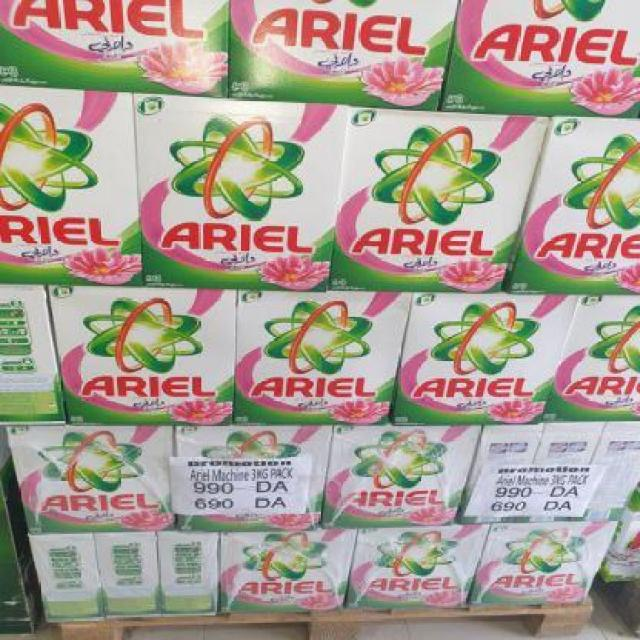Detergent: (134, 95, 334, 294), (338, 102, 522, 296), (0, 66, 135, 292), (57, 288, 237, 420), (240, 288, 397, 427), (394, 293, 546, 425), (18, 420, 165, 534), (327, 424, 465, 525), (352, 525, 483, 610), (477, 522, 600, 612), (550, 299, 639, 421), (226, 533, 352, 612)
